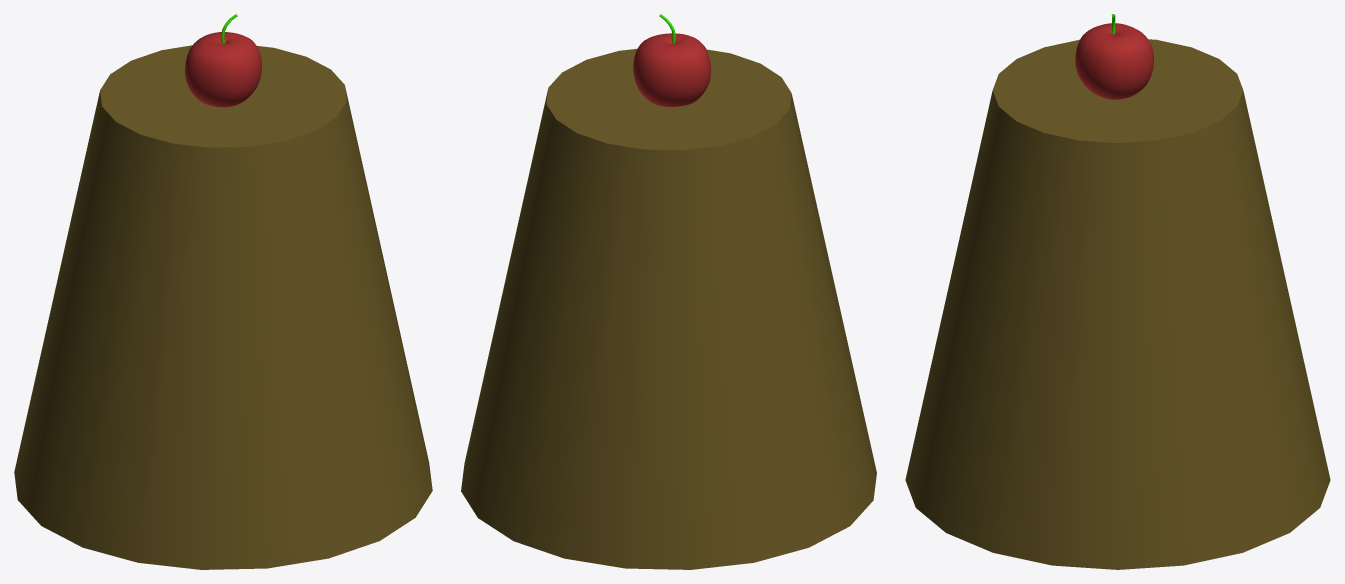
Rendered from apple.fbx.
3 renders of one model, left to right at view 1: azimuth 30°, elevation 25°; view 2: azimuth 150°, elevation 25°; view 3: azimuth 270°, elevation 25°, orthographic.
Parts seen in each view (by area): view 1: pCylinder1, nurbsToPoly5; view 2: pCylinder1, nurbsToPoly5; view 3: pCylinder1, nurbsToPoly5.
Part boxes in pixels (left/top/right/bottom): pCylinder1: left=14, top=45, right=432, bottom=569; nurbsToPoly5: left=185, top=32, right=261, bottom=107; pCylinder1: left=461, top=48, right=876, bottom=569; nurbsToPoly5: left=633, top=33, right=711, bottom=106; pCylinder1: left=905, top=39, right=1330, bottom=569; nurbsToPoly5: left=1075, top=23, right=1153, bottom=99.
Bounding box in the file's own units: 2.76 × 3.38 × 2.76.
